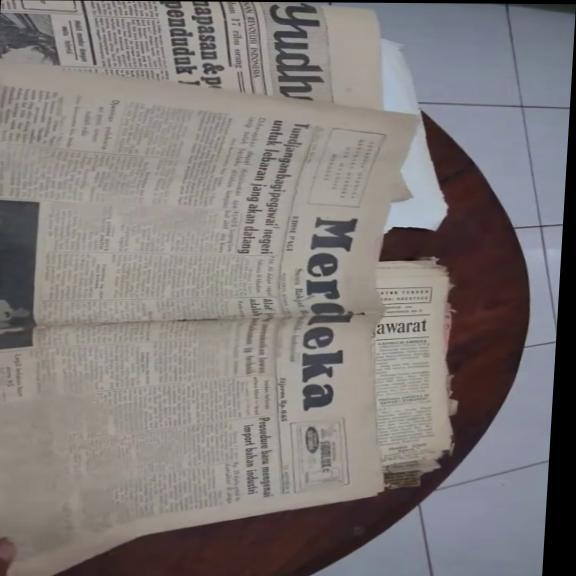Kertas: (0, 4, 430, 324), (0, 300, 405, 571), (222, 43, 428, 550), (0, 2, 392, 104)
